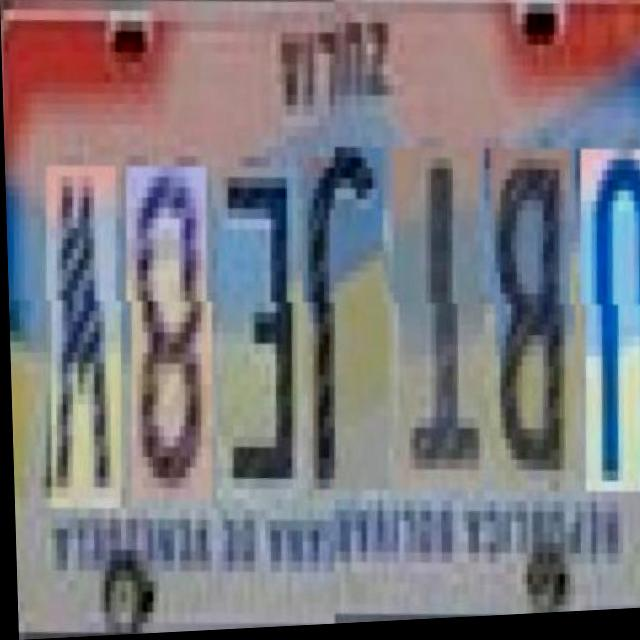8: (115, 161, 211, 500)
b: (477, 153, 573, 502)
e: (205, 162, 300, 500)
j: (291, 151, 387, 501)
t: (381, 153, 483, 502)
u: (570, 156, 640, 504)
w: (33, 162, 119, 509)
